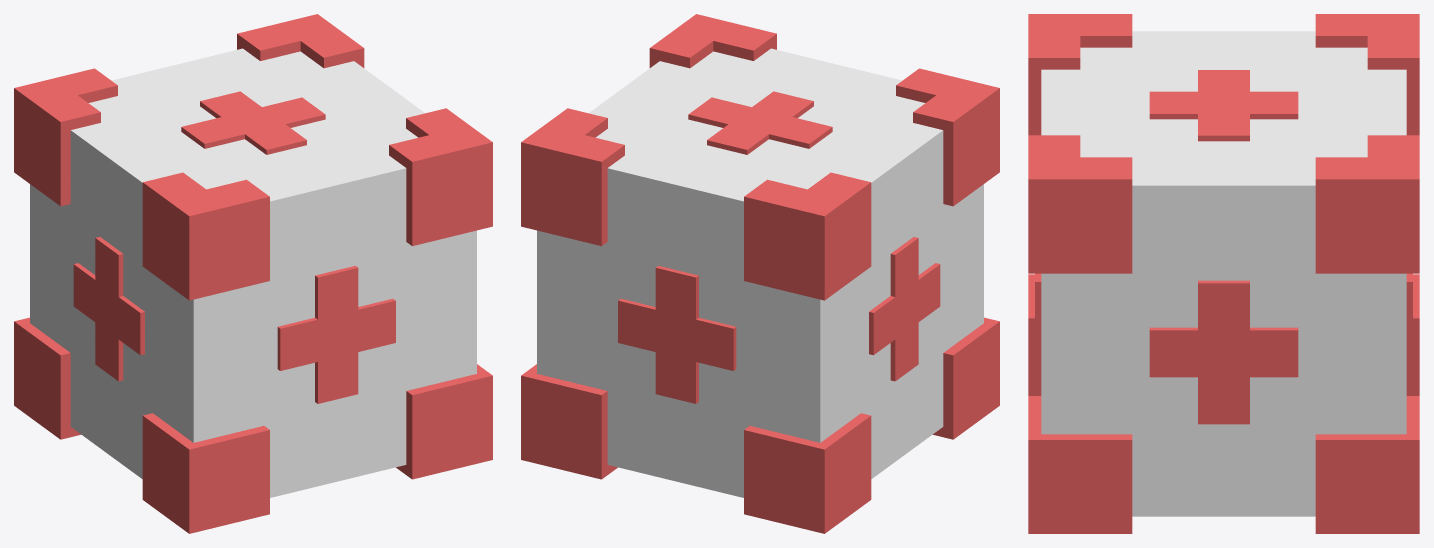
File: Sketchfab_2019_12_10_13_15_06.fbx
3 renders of one model, left to right at view 1: azimuth 30°, elevation 25°; view 2: azimuth 150°, elevation 25°; view 3: azimuth 270°, elevation 25°, orthographic. The views are drawn at different scales.
Parts seen in each view (by area): view 1: Cube, Cube.001; view 2: Cube, Cube.001; view 3: Cube, Cube.001.
Part boxes in pixels (left/top/right/bottom): Cube: left=14, top=14, right=492, bottom=533; Cube.001: left=73, top=91, right=395, bottom=403; Cube: left=521, top=14, right=999, bottom=533; Cube.001: left=618, top=91, right=940, bottom=403; Cube: left=1028, top=14, right=1419, bottom=533; Cube.001: left=1035, top=70, right=1412, bottom=424.
Size of the model in its own units: 107 by 107 by 107.
